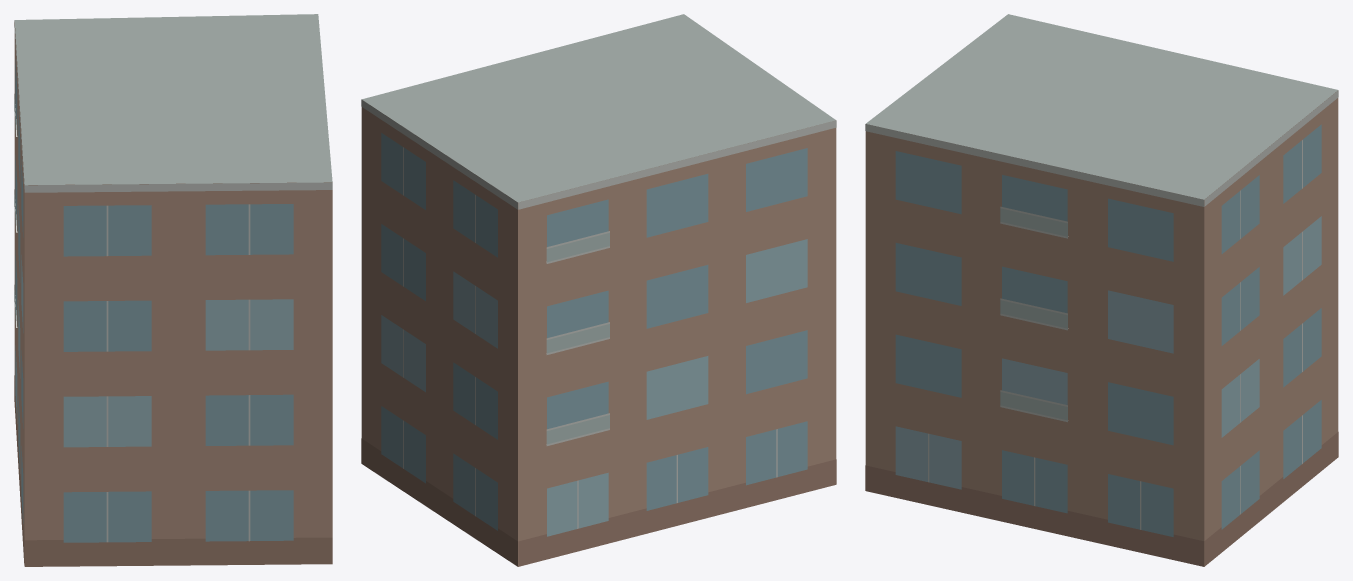
Rendered from survey-upis-32664006.glb.
3 views of the same model, side by side, from view 1: azimuth 30°, elevation 25°; view 2: azimuth 150°, elevation 25°; view 3: azimuth 270°, elevation 25° (orthographic). The views are drawn at different scales.
Visible parts, largest first — view 1: survey-upis-32664006.tmp; view 2: survey-upis-32664006.tmp; view 3: survey-upis-32664006.tmp.
Boxes of the visible parts, x1,y1,x2,y2 form: survey-upis-32664006.tmp: (14,14,332,566); survey-upis-32664006.tmp: (361,14,836,566); survey-upis-32664006.tmp: (865,14,1338,566).
Bounding box in the file's own units: 13.24 × 12.2 × 14.25.
